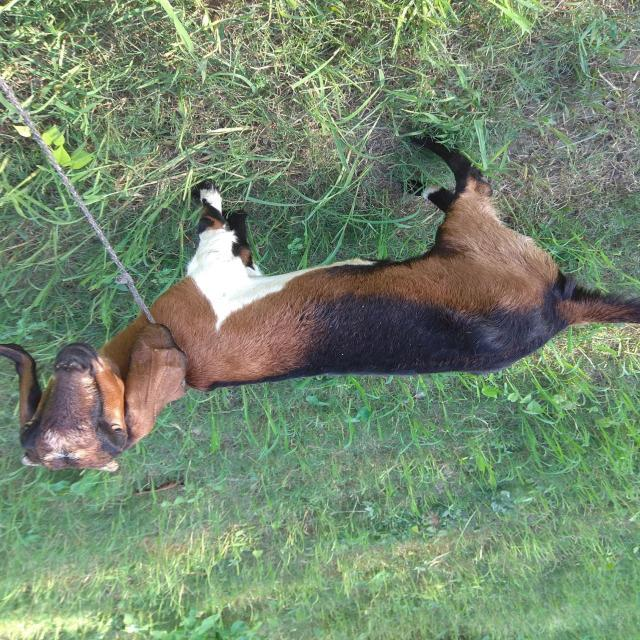Goat: (1, 133, 639, 473)
